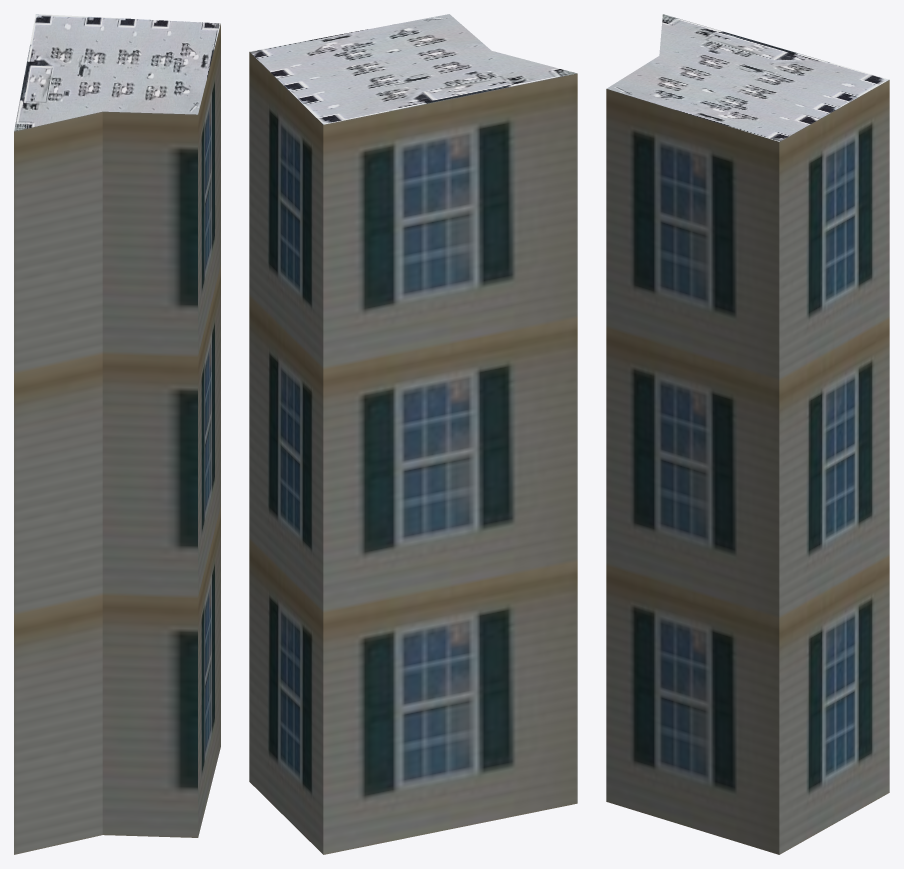
Rendered from ResTex__3375.fbx.
The picture shows the model from 3 angles, left to right: view 1: azimuth 30°, elevation 25°; view 2: azimuth 150°, elevation 25°; view 3: azimuth 270°, elevation 25°; orthographic projection. The views are drawn at different scales.
Parts seen in each view (by area): view 1: CityEngineMaterial_7_m, CityEngineMaterial_4_m; view 2: CityEngineMaterial_7_m, CityEngineMaterial_4_m; view 3: CityEngineMaterial_7_m, CityEngineMaterial_4_m.
Boxes of the visible parts, box(x1,y1,x2,y2) form: CityEngineMaterial_7_m: box(14, 24, 220, 854); CityEngineMaterial_4_m: box(14, 14, 220, 131); CityEngineMaterial_7_m: box(249, 52, 577, 854); CityEngineMaterial_4_m: box(250, 14, 576, 124); CityEngineMaterial_7_m: box(606, 80, 889, 854); CityEngineMaterial_4_m: box(607, 14, 888, 141).
Size of the model in its own units: 3.46 by 9 by 3.24.
2 materials, 2 textured.
